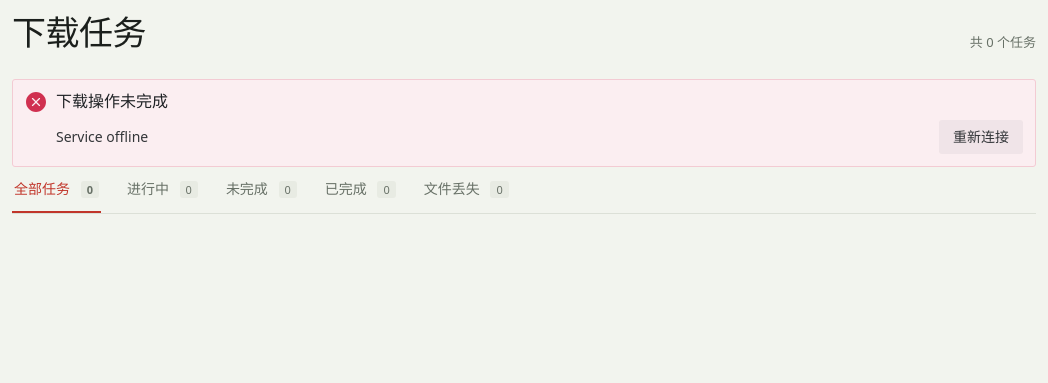
Test: shows loading until snapshot resolution and supports a recoverable observer failure
Click the button "重新连接".
click(981, 137)  # box [939,120,1023,154]
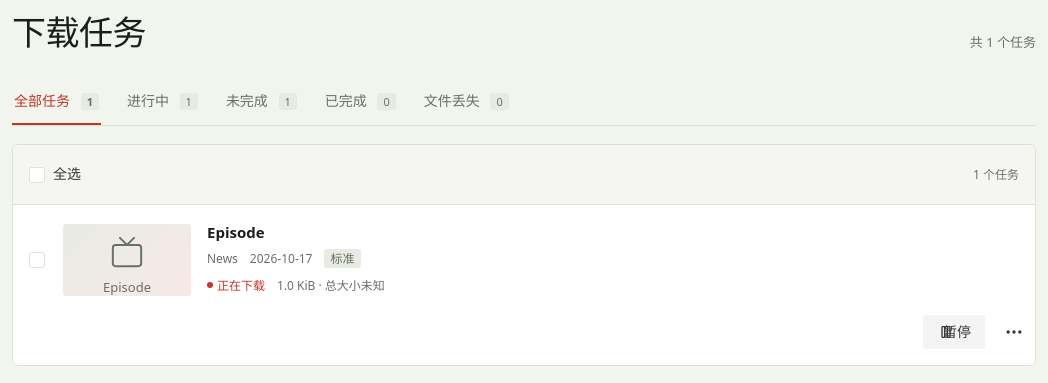
Expected: the text "Service offline" is gone
